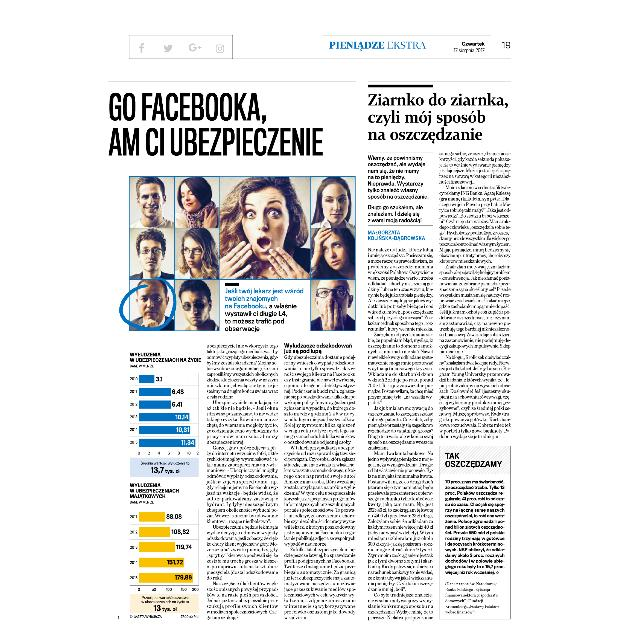article: (106, 88, 360, 624), (366, 90, 514, 624)
